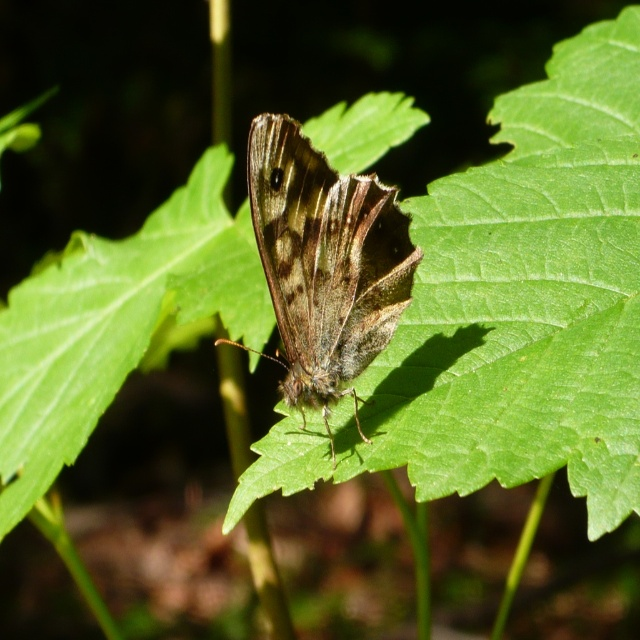Butterfly: (225, 107, 434, 453)
